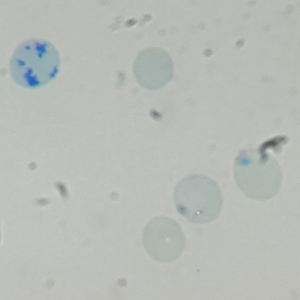aggregate reticulocyte: (7, 38, 62, 89)
erythrocyte: (232, 147, 284, 202), (172, 174, 223, 226), (141, 215, 186, 264), (132, 47, 175, 91)
